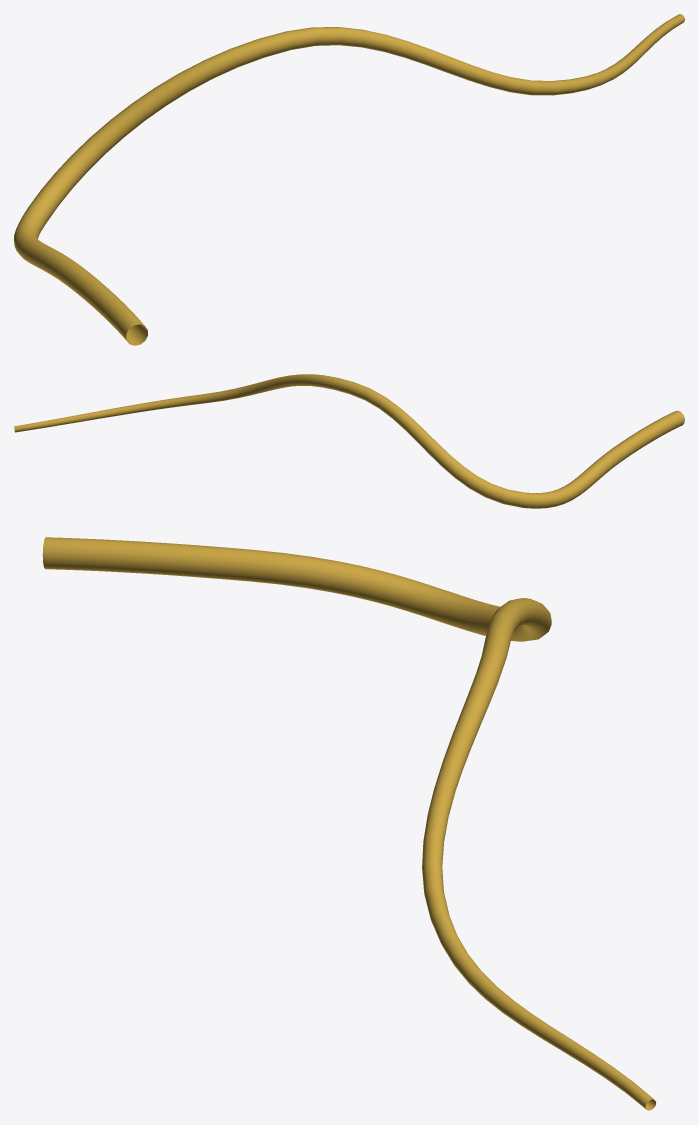
The picture shows the model from 3 angles, top to bottom: view 1: azimuth 30°, elevation 25°; view 2: azimuth 150°, elevation 25°; view 3: azimuth 270°, elevation 25°; orthographic projection. The views are drawn at different scales.
Parts seen in each view (by area): view 1: 左侧尺神经深支; view 2: 左侧尺神经深支; view 3: 左侧尺神经深支.
Boxes of the visible parts, box(x1,y1,x2,y2) form: 左侧尺神经深支: box(14, 14, 684, 345); 左侧尺神经深支: box(14, 374, 684, 508); 左侧尺神经深支: box(42, 537, 656, 1110).
Size of the model in its own units: 0.0553 by 0.00962 by 0.0282.
